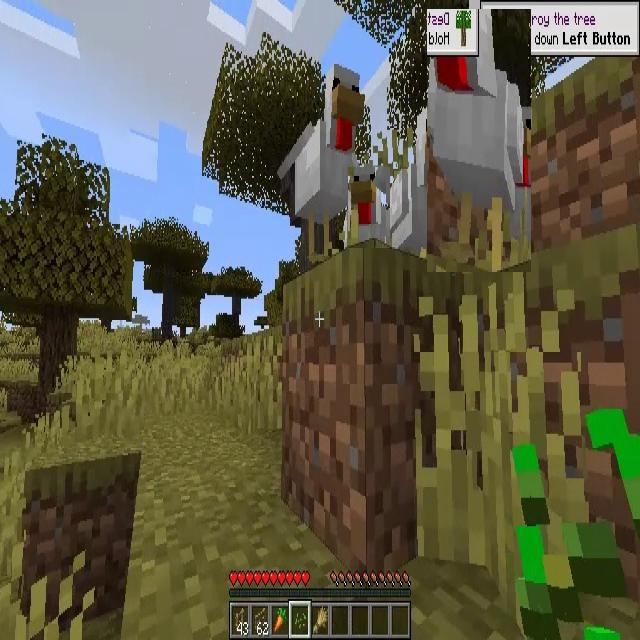duck: (428, 9, 532, 272), (290, 64, 360, 258), (387, 106, 452, 262), (348, 167, 390, 248)
